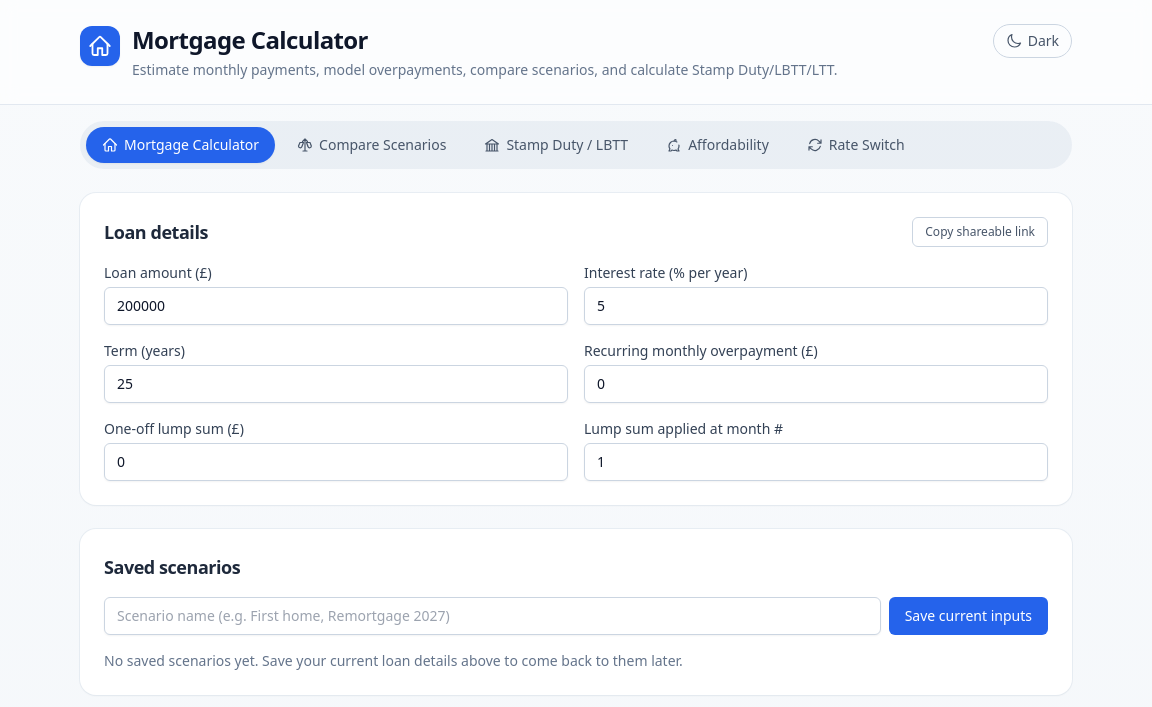
Scenario: App › switches to the Rate Switch tab when clicked
The image size is (1152, 707).
Click the button "Rate Switch" at (856, 145), box x1=791 y1=127 x2=921 y2=163
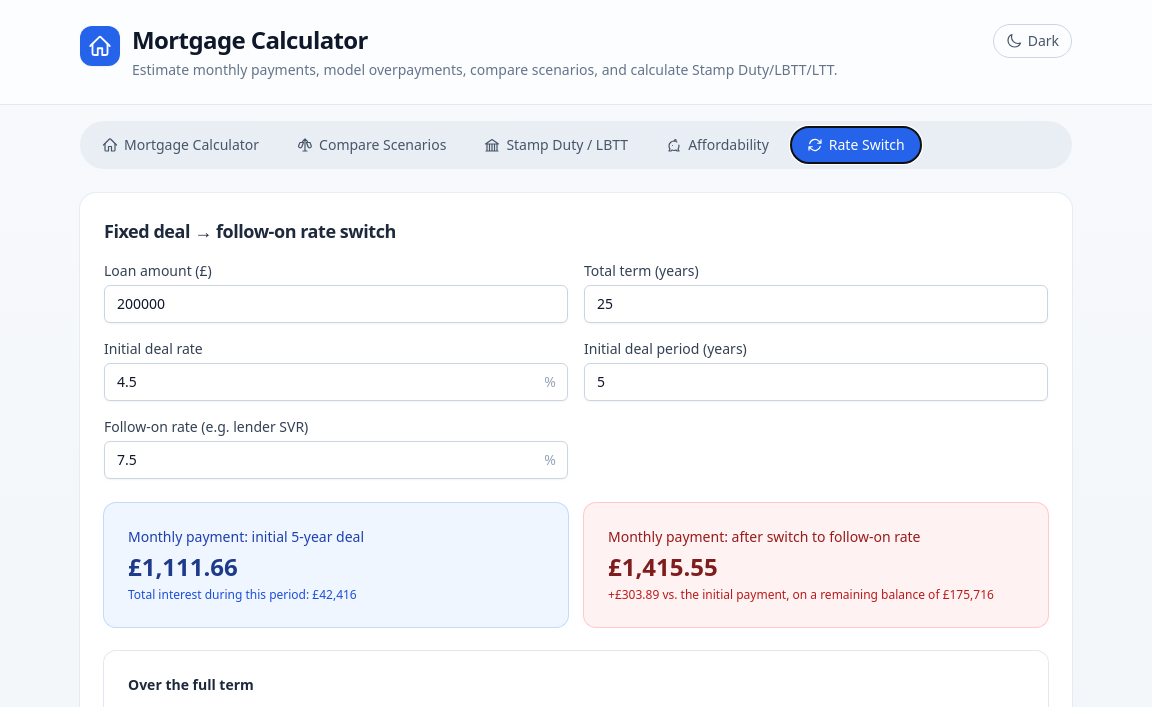
Expected: the heading "Fixed deal → follow-on rate switch" is shown, x1=104 y1=217 x2=396 y2=245
